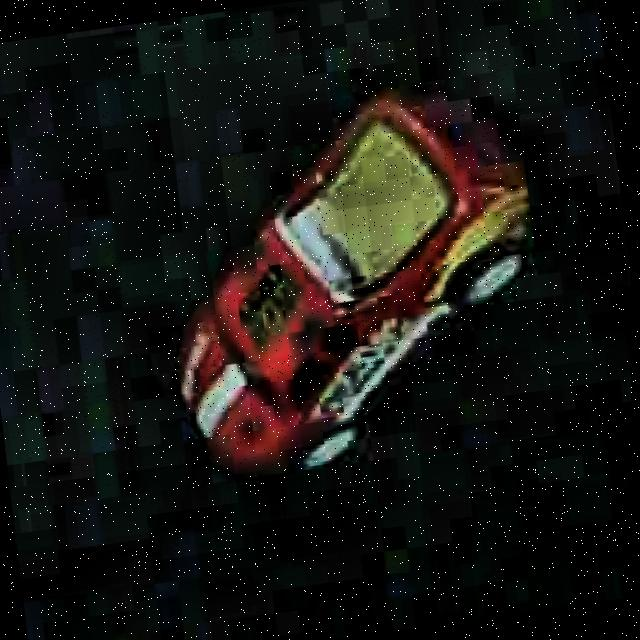car: (130, 60, 577, 498)
